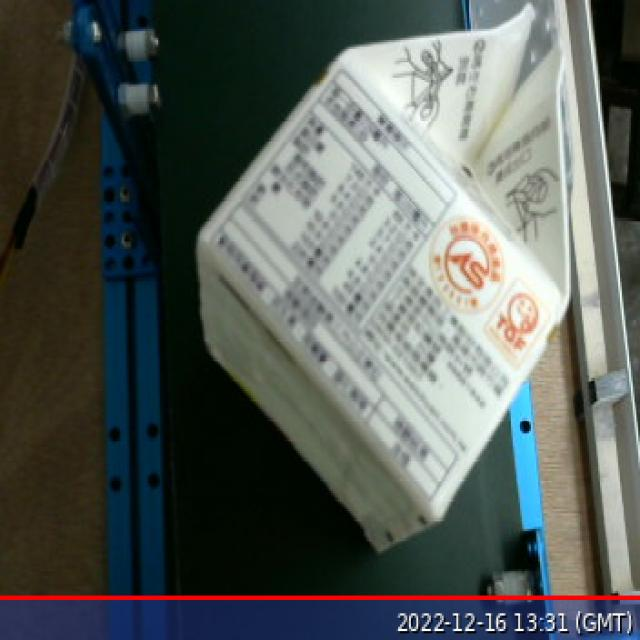non_white_jug: (191, 0, 582, 579)
